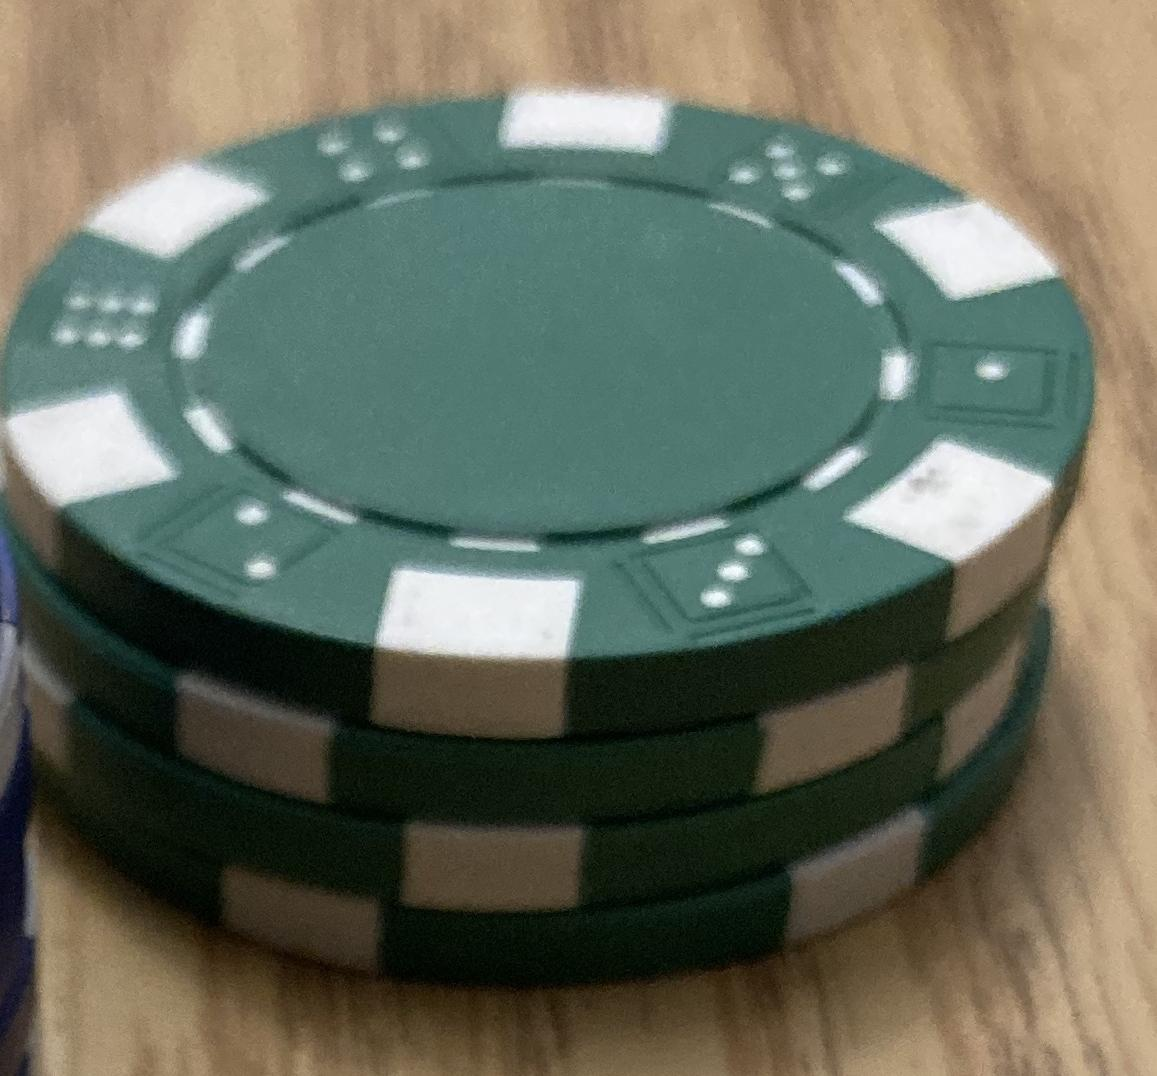Chip: (1, 1, 1157, 1076)
